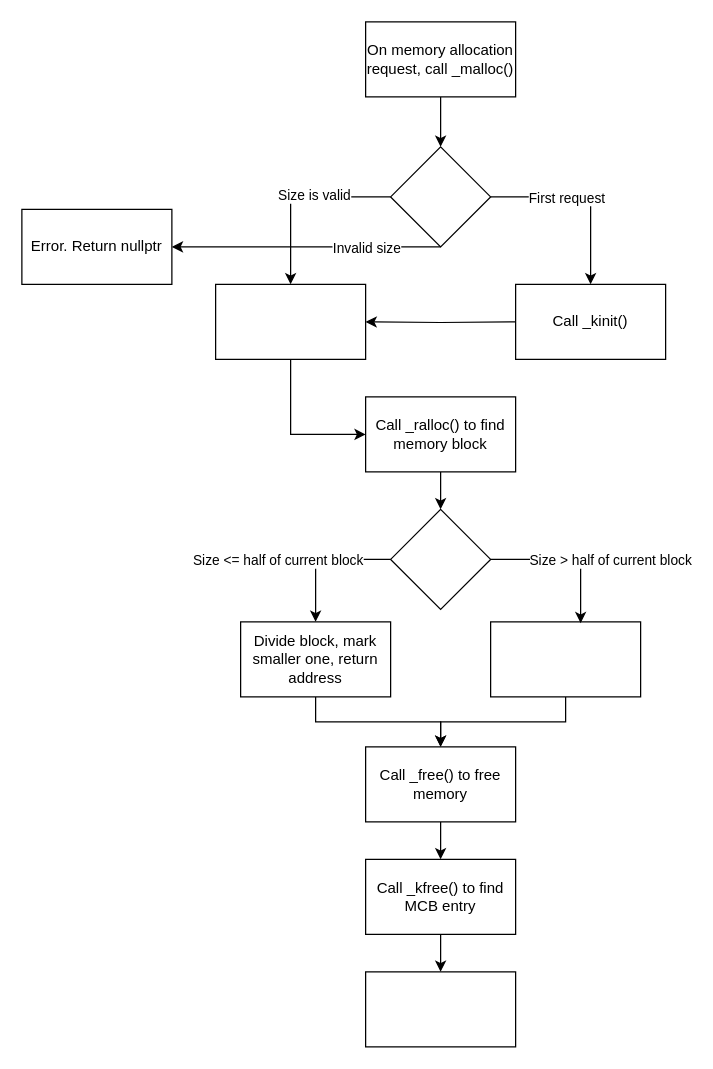
The diagram is 713 pixels wide and 1069 high, and some of its shapes have lost their labels. The centre of each missing label's shape, as x and y in pixels:
"Call _kalloc() to allocate memory" belongs at point (290, 321).
"Call rfree() to recursively free and merge blocks" belongs at point (440, 1009).
"Check if block is free, mark it, return address" belongs at point (565, 659).
